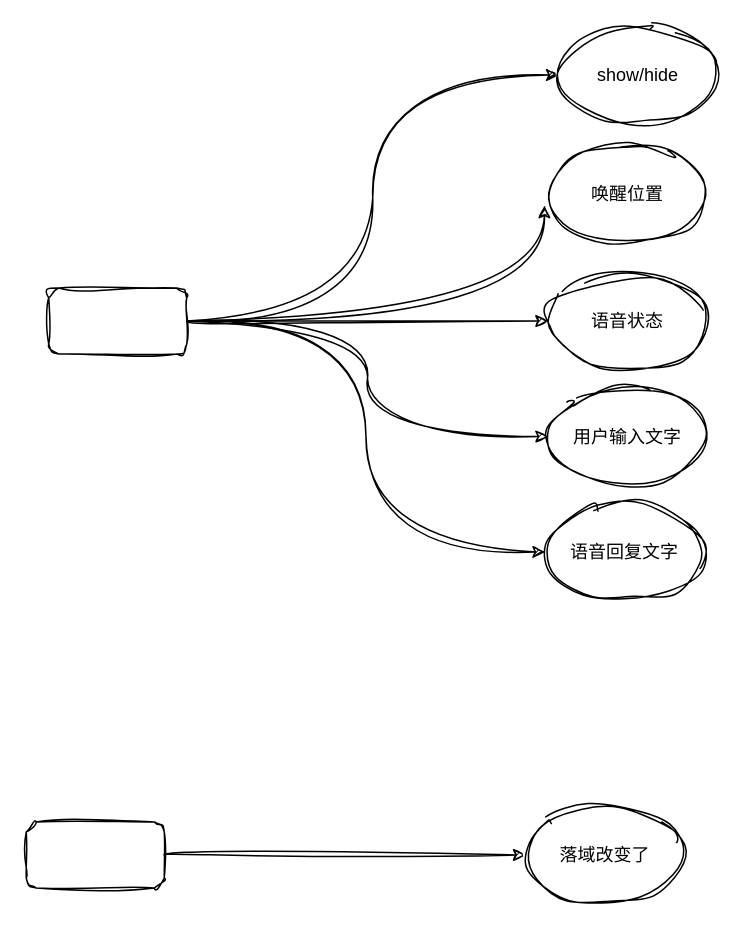
The diagram is 744 pixels wide and 930 high, and some of its shapes have lost their labels. Here are the shapes that lost their labels. From the top down, the box of each, then its label:
(47, 286, 187, 354): Home
(25, 820, 164, 888): 其他
